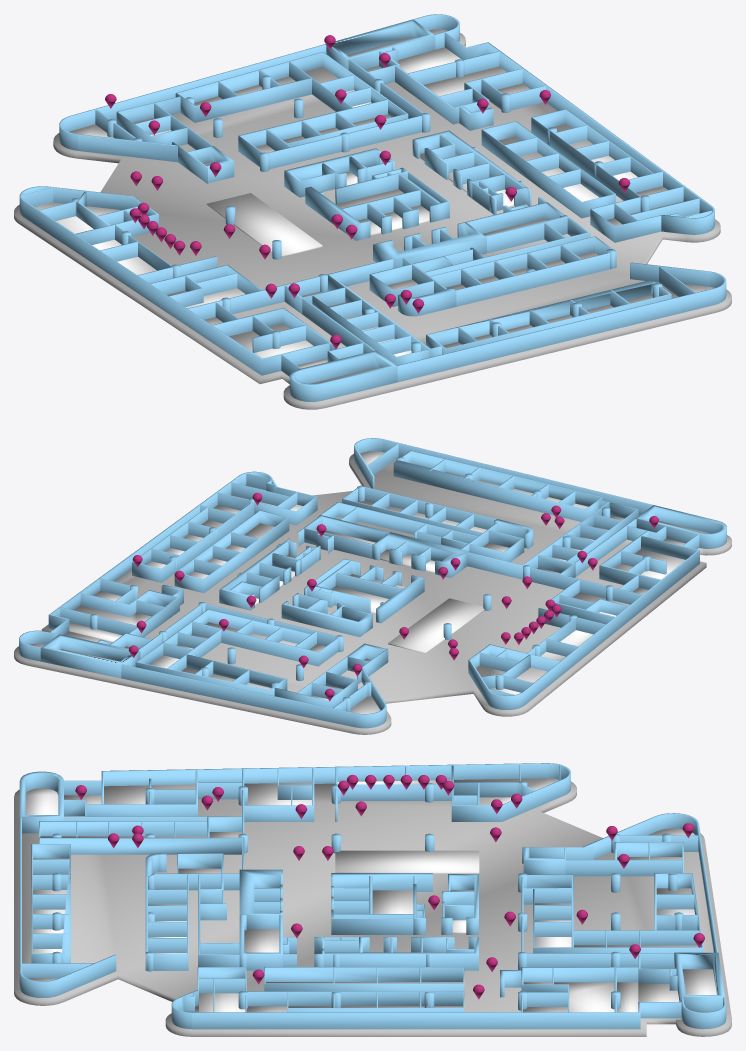
The picture shows the model from 3 angles, top to bottom: view 1: azimuth 30°, elevation 25°; view 2: azimuth 150°, elevation 25°; view 3: azimuth 270°, elevation 25°; orthographic projection. The views are drawn at different scales.
Visible parts, largest first — view 1: Line009, Shape001, Layer_________001, Z_UP; view 2: Line009, Shape001, Layer_________001, Z_UP; view 3: Line009, Shape001, Layer_________001, Z_UP.
Part boxes in pixels (left/top/right/bottom): Line009: left=19, top=14, right=726, bottom=401; Shape001: left=14, top=33, right=731, bottom=409; Layer_________001: left=35, top=29, right=714, bottom=383; Z_UP: left=206, top=193, right=322, bottom=256; Line009: left=19, top=438, right=726, bottom=728; Shape001: left=14, top=454, right=731, bottom=734; Layer_________001: left=30, top=451, right=708, bottom=713; Z_UP: left=388, top=598, right=484, bottom=653; Line009: left=19, top=763, right=726, bottom=1029; Shape001: left=14, top=781, right=731, bottom=1036; Layer_________001: left=25, top=778, right=716, bottom=1012; Z_UP: left=335, top=850, right=479, bottom=873.
Bounding box in the file's own units: 51.89 × 3.58 × 61.69.
Materials: 37 (3 with a texture image).
